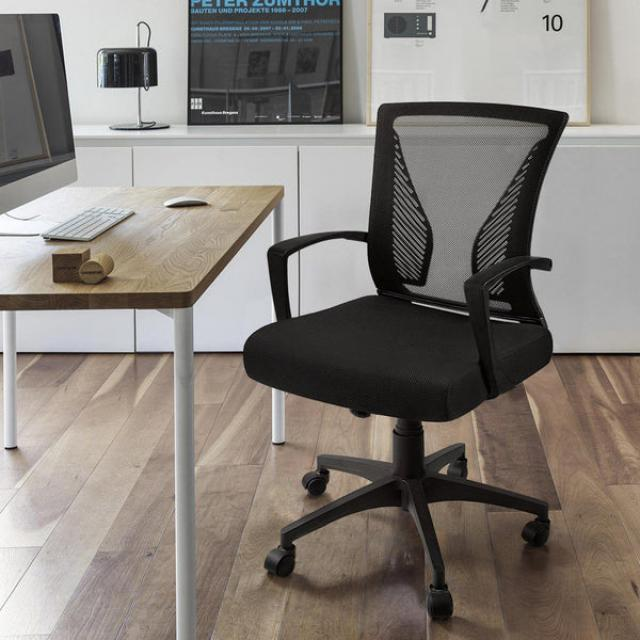chair: (240, 83, 613, 627)
